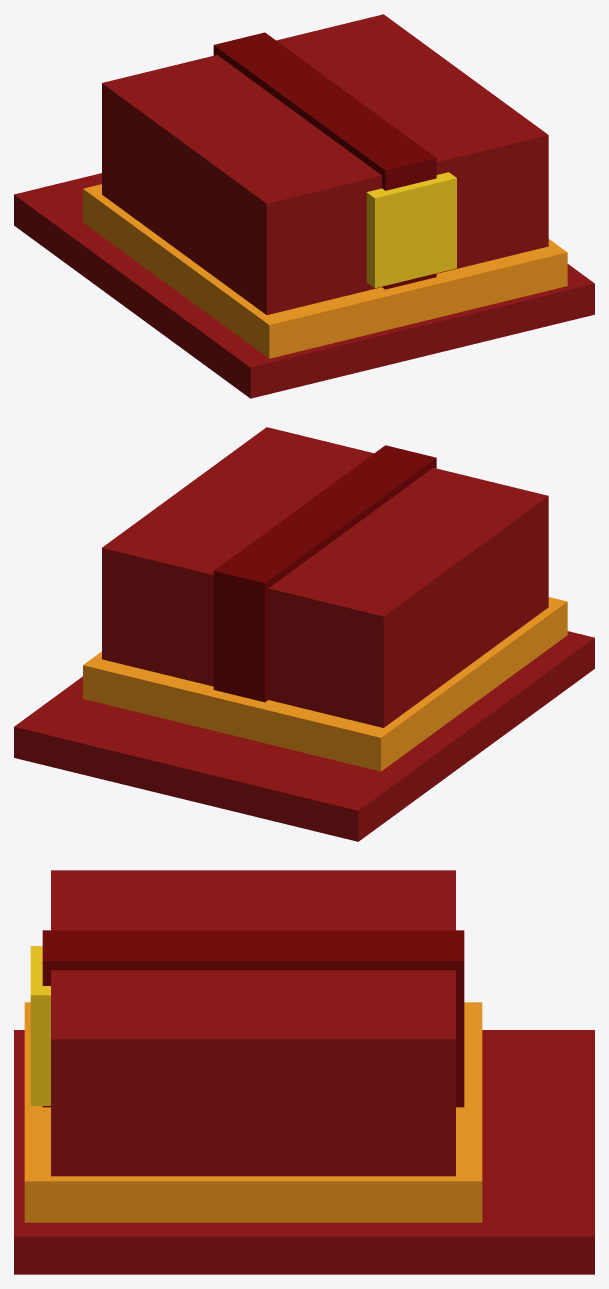
Rendered from Fireman Helmet 01.FBX.
3 renders of one model, top to bottom at view 1: azimuth 30°, elevation 25°; view 2: azimuth 150°, elevation 25°; view 3: azimuth 270°, elevation 25°, orthographic. The views are drawn at different scales.
Visible parts, largest first — view 1: Fireman Helmet 01; view 2: Fireman Helmet 01; view 3: Fireman Helmet 01.
Boxes of the visible parts, <box> form: Fireman Helmet 01: <box>14,14,594,398</box>; Fireman Helmet 01: <box>14,427,594,841</box>; Fireman Helmet 01: <box>14,870,594,1274</box>.
Size of the model in its own units: 74.24 by 88.31 by 37.85.
Materials: 1 (1 with a texture image).
